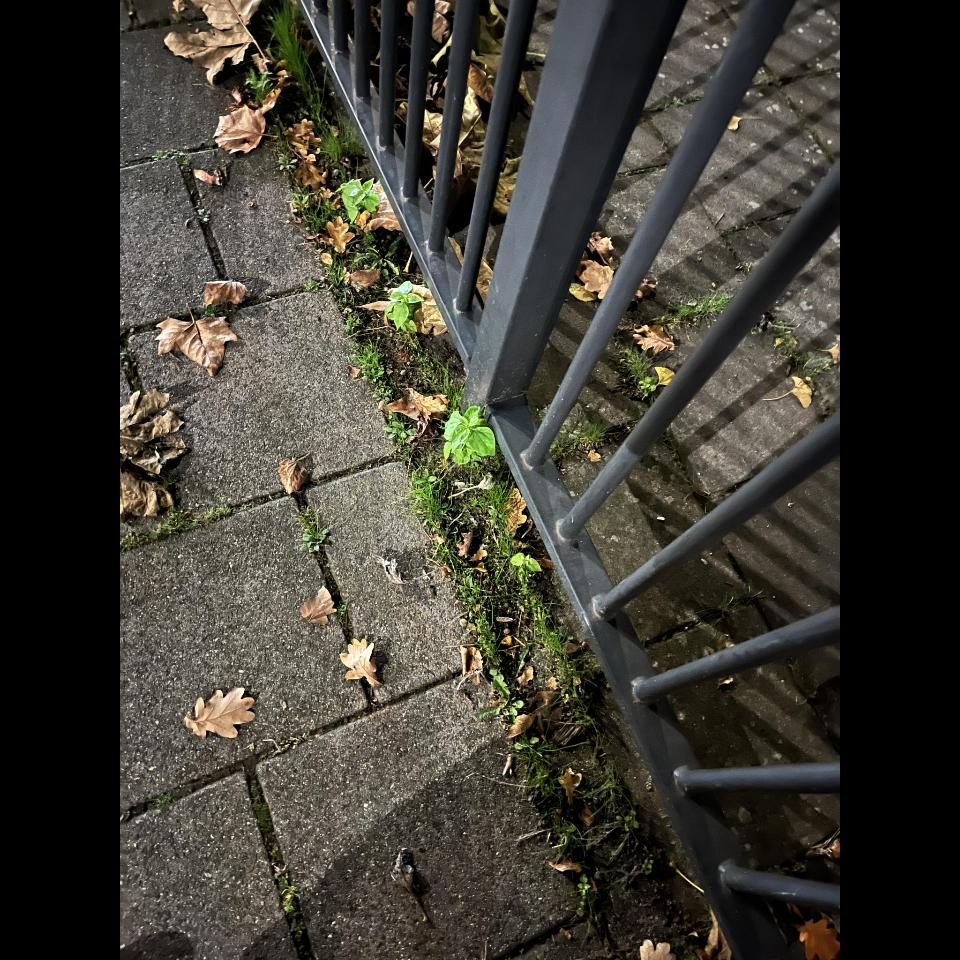weed: (385, 413, 647, 919), (267, 0, 364, 181), (120, 506, 231, 554), (443, 407, 495, 465), (663, 293, 730, 324), (293, 189, 338, 233), (385, 281, 420, 331), (298, 507, 329, 553), (345, 234, 384, 270), (354, 342, 384, 382), (638, 376, 659, 398), (345, 311, 364, 333)
